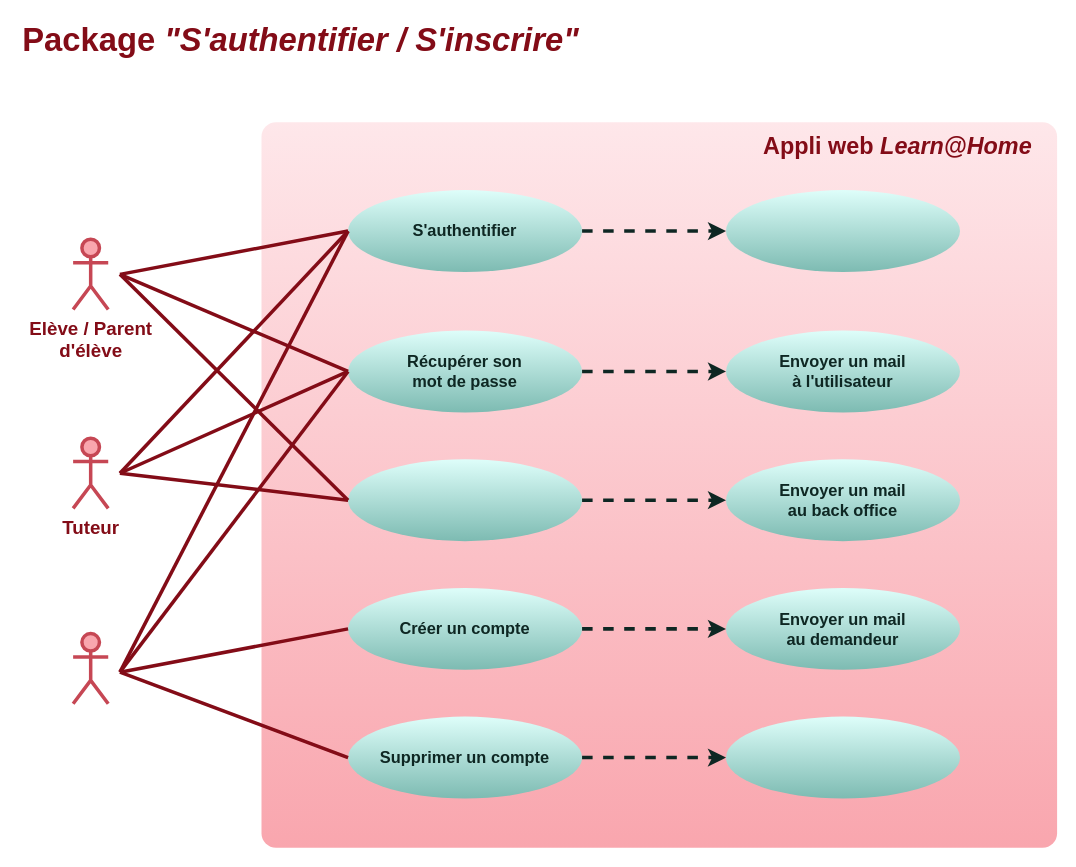
The diagram is 1076 pixels wide and 867 high, and some of its shapes have lost their labels. Each missing label, with the box of its shape:
Accéder à l'appli: (725, 190, 959, 271)
Admin: (71, 631, 109, 705)
Envoyer un mail au titulaire: (725, 716, 959, 798)
Faire une demande d'inscription: (347, 459, 581, 541)
